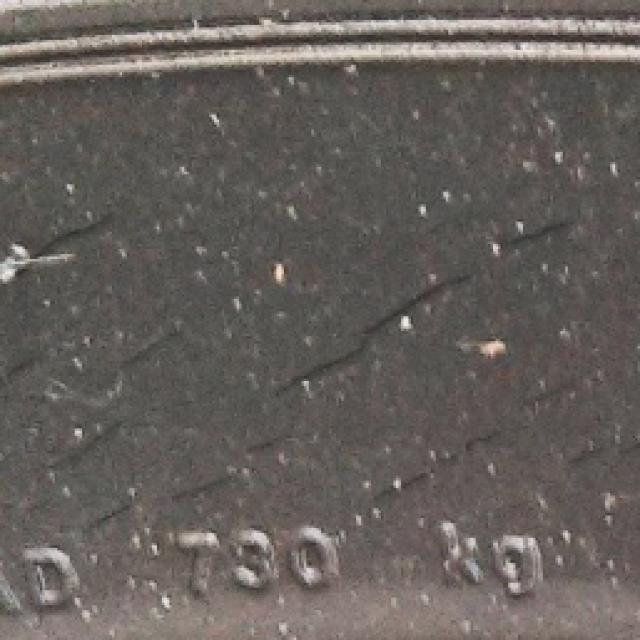Cracks: (0, 136, 640, 594)
